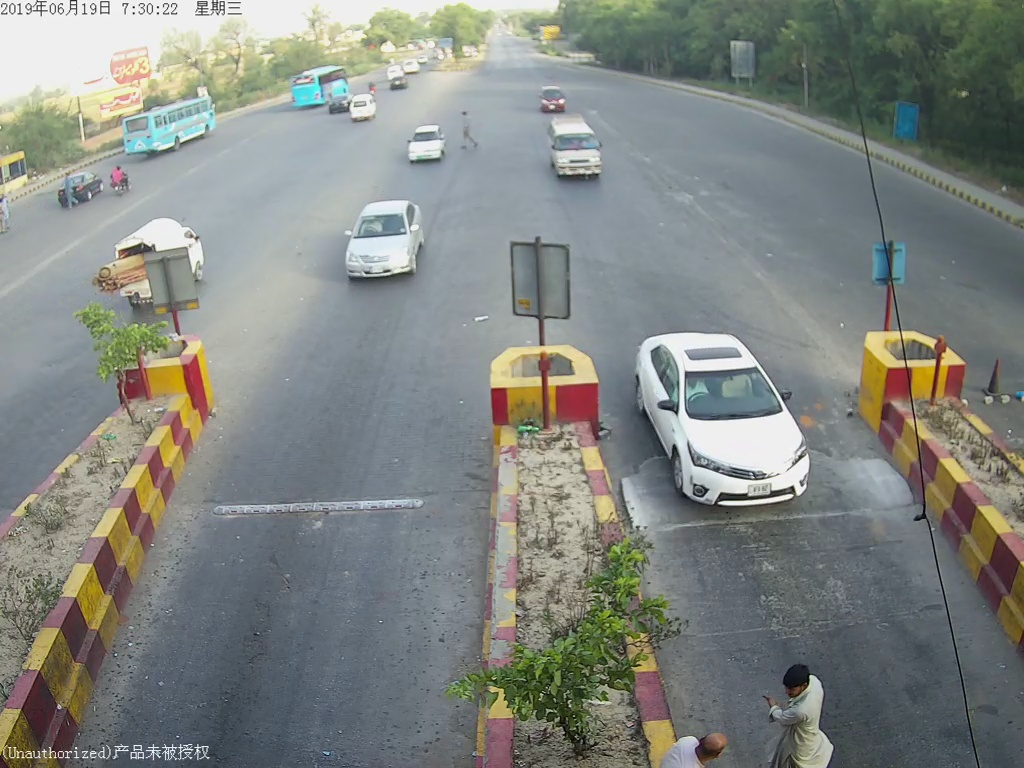Cat-1: (634, 319, 827, 510), (336, 193, 429, 288), (398, 116, 448, 164)
Cat-2: (545, 121, 609, 183)
